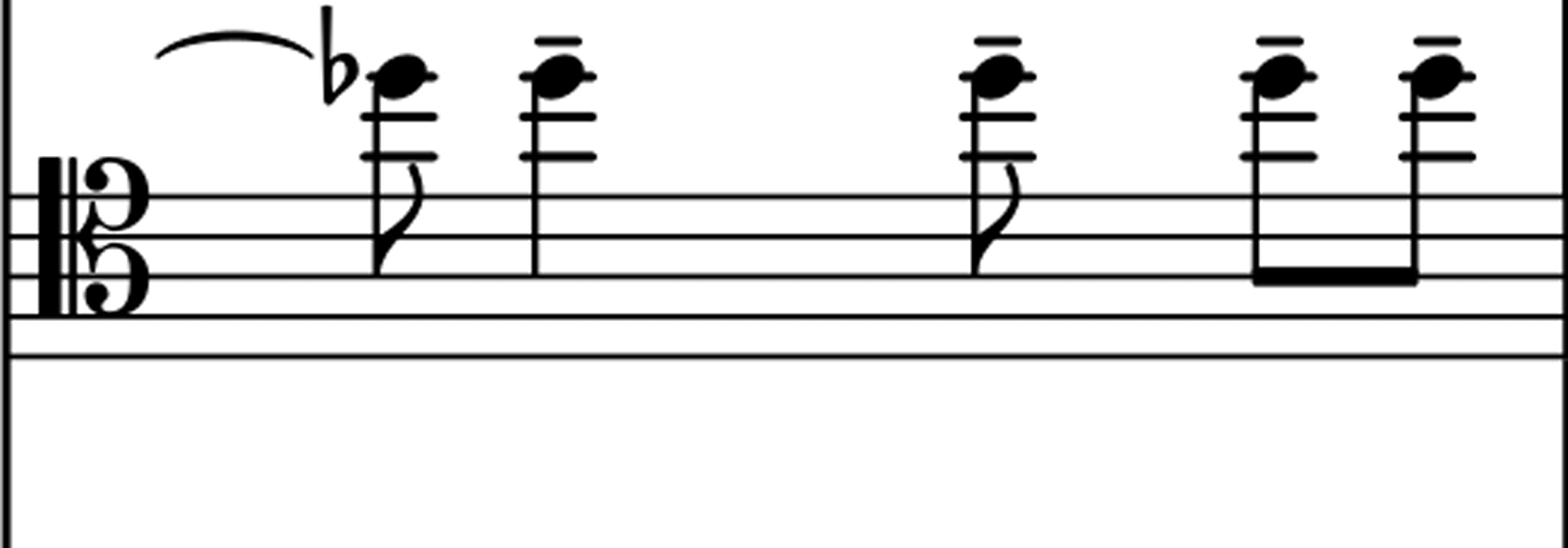accidentalFlat: (321, 6, 357, 104)
clefCTenor: (22, 134, 165, 342)
flag8thDown: (971, 162, 1019, 278)
ledgerLine: (359, 113, 437, 120), (519, 113, 596, 120)
noteheadBlackOnLine: (1410, 55, 1463, 97), (373, 55, 425, 97), (1253, 55, 1305, 97), (533, 55, 583, 97), (973, 56, 1023, 97)
staff: (216, 188, 1392, 283)
tie: (156, 32, 312, 58)
